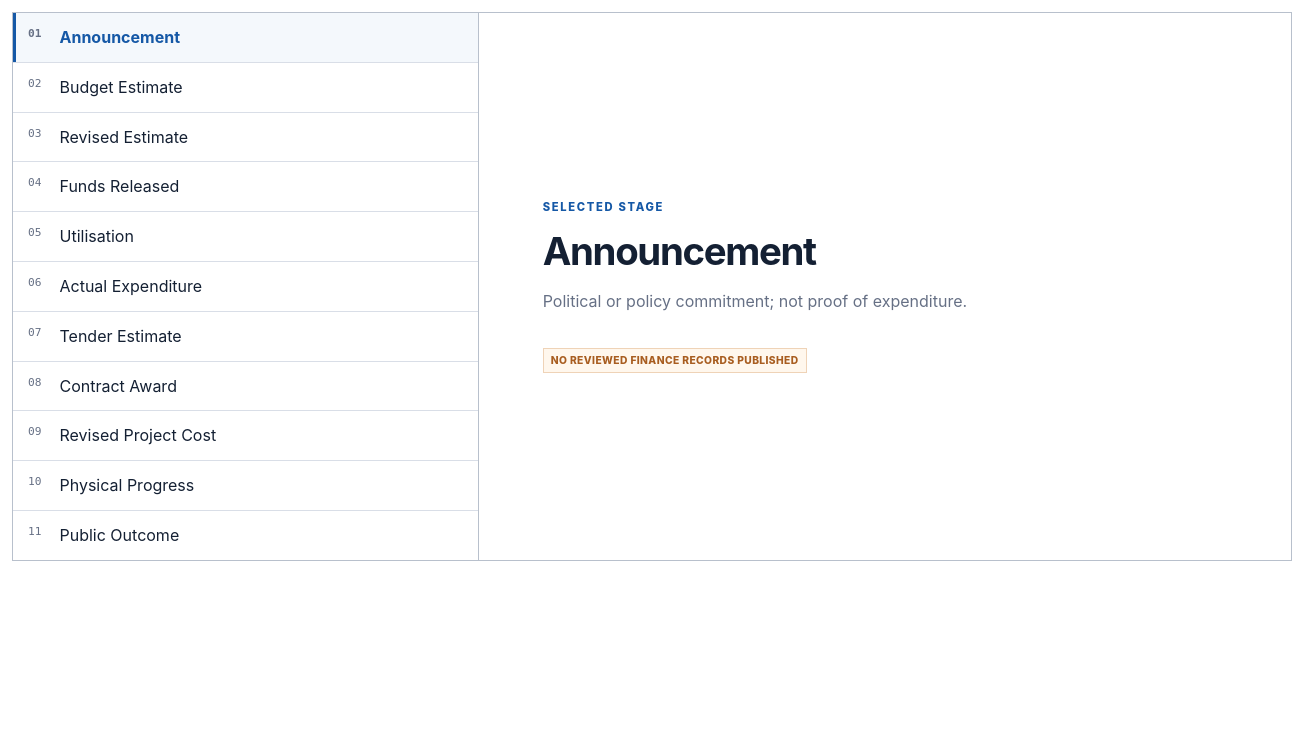
Scenario: public utility interface › keeps all public-money stages separate and states the unavailable-data boundary
Click the button "08 Contract Award". click: point(118, 386)
box: x1=13 y1=362 x2=478 y2=410
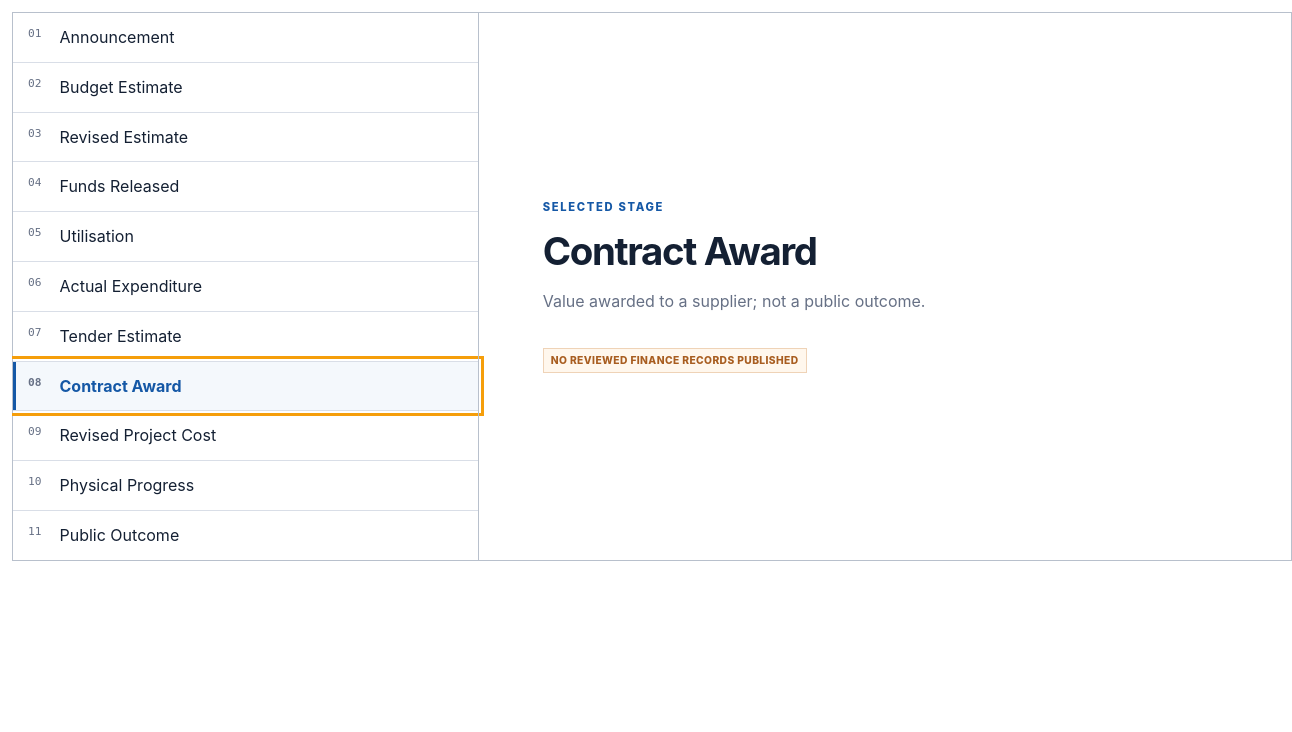
Expected: the text "No reviewed finance records published" is shown, x1=543 y1=348 x2=807 y2=373
Expected: the heading "Contract Award" is shown, x1=543 y1=228 x2=817 y2=274
Expected: the text "Value awarded to a supplier; not a public outcome." is shown, x1=543 y1=291 x2=925 y2=311
